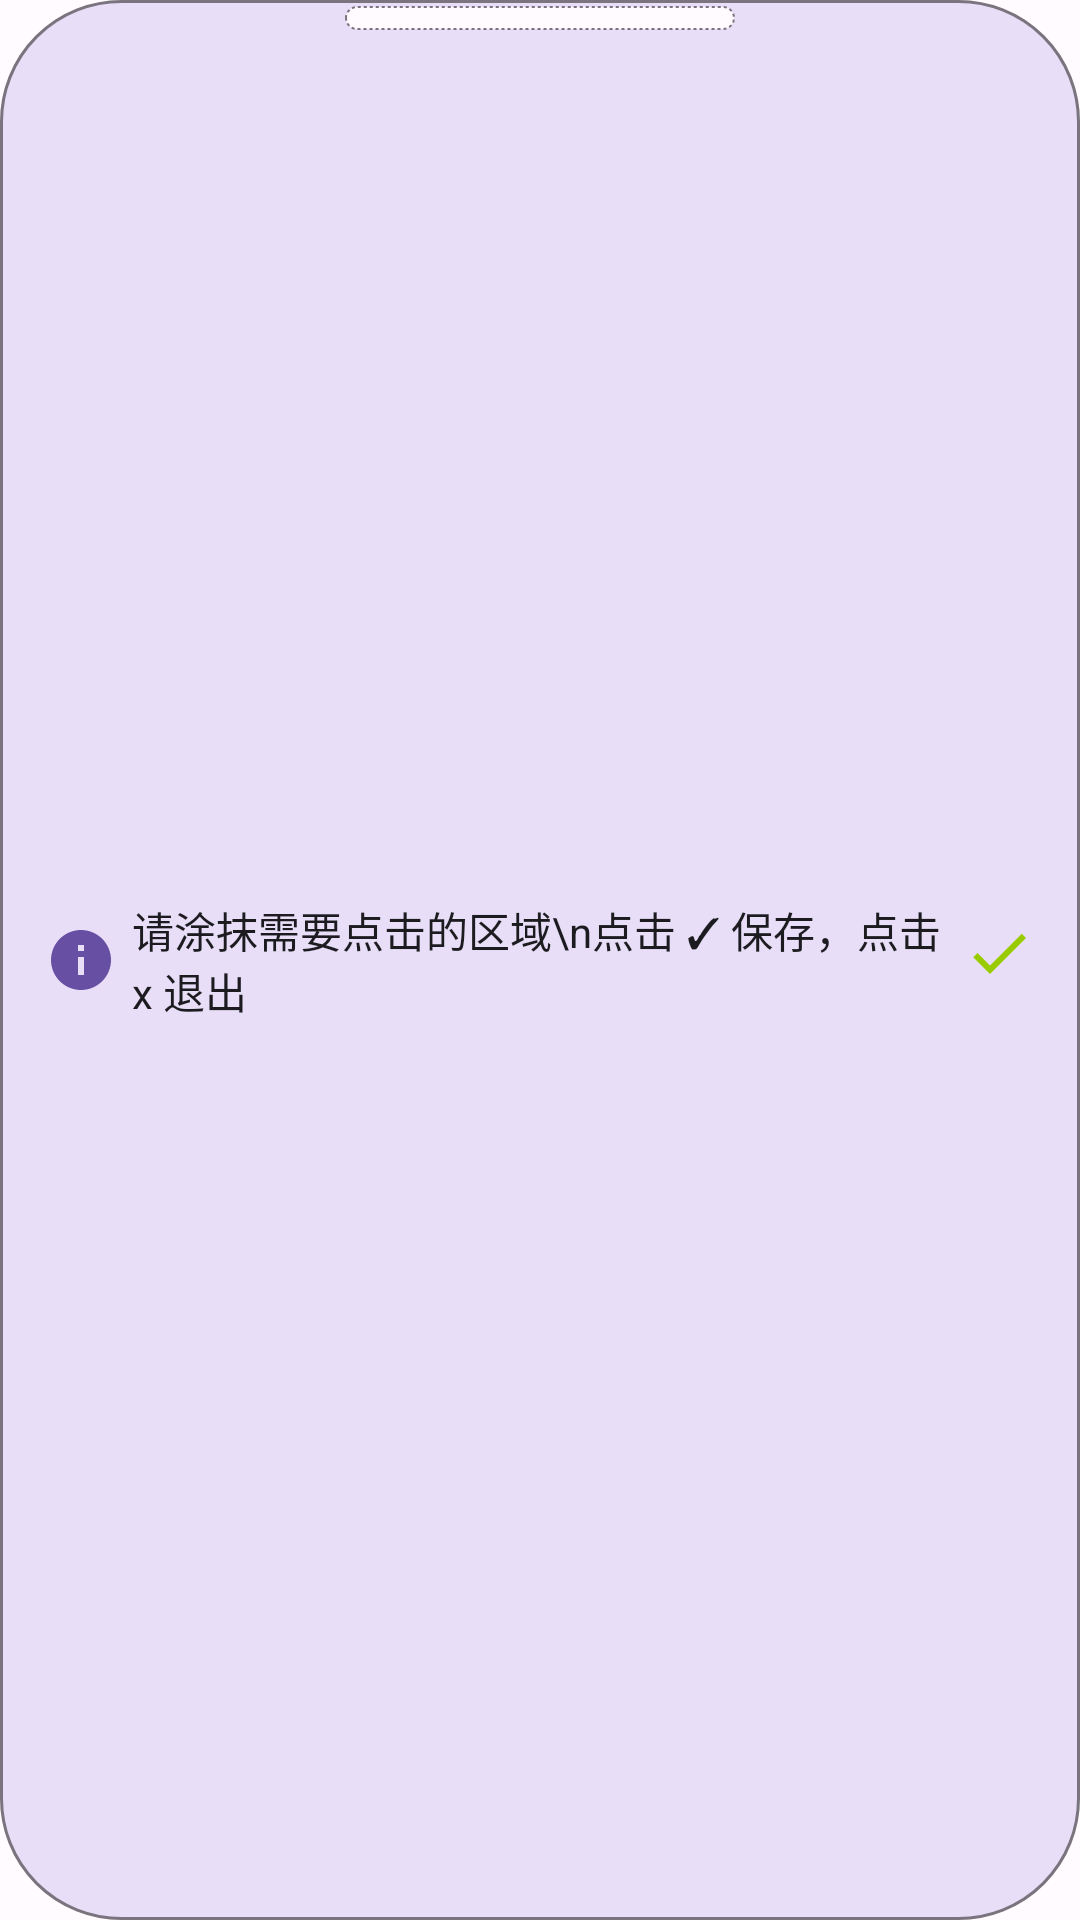

Named icons in this screenshot (1080px×1920px) and their bounding boxes, (x1, y1, x2, y2):
check: (973, 934, 1026, 974)
